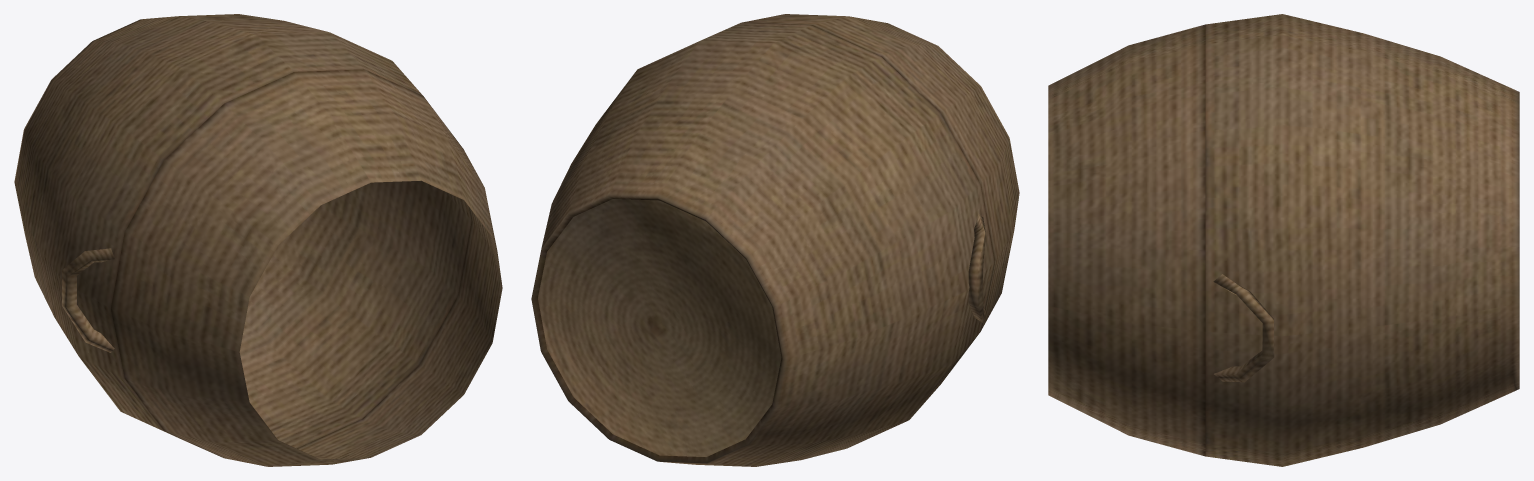
Rendered from prop_wickerbasket4.glb.
3 views of the same model, side by side, from view 1: azimuth 30°, elevation 25°; view 2: azimuth 150°, elevation 25°; view 3: azimuth 270°, elevation 25° (orthographic). The views are drawn at different scales.
Size of the model in its own units: 37.66 by 36.25 by 37.67.
1 material, 1 textured.
